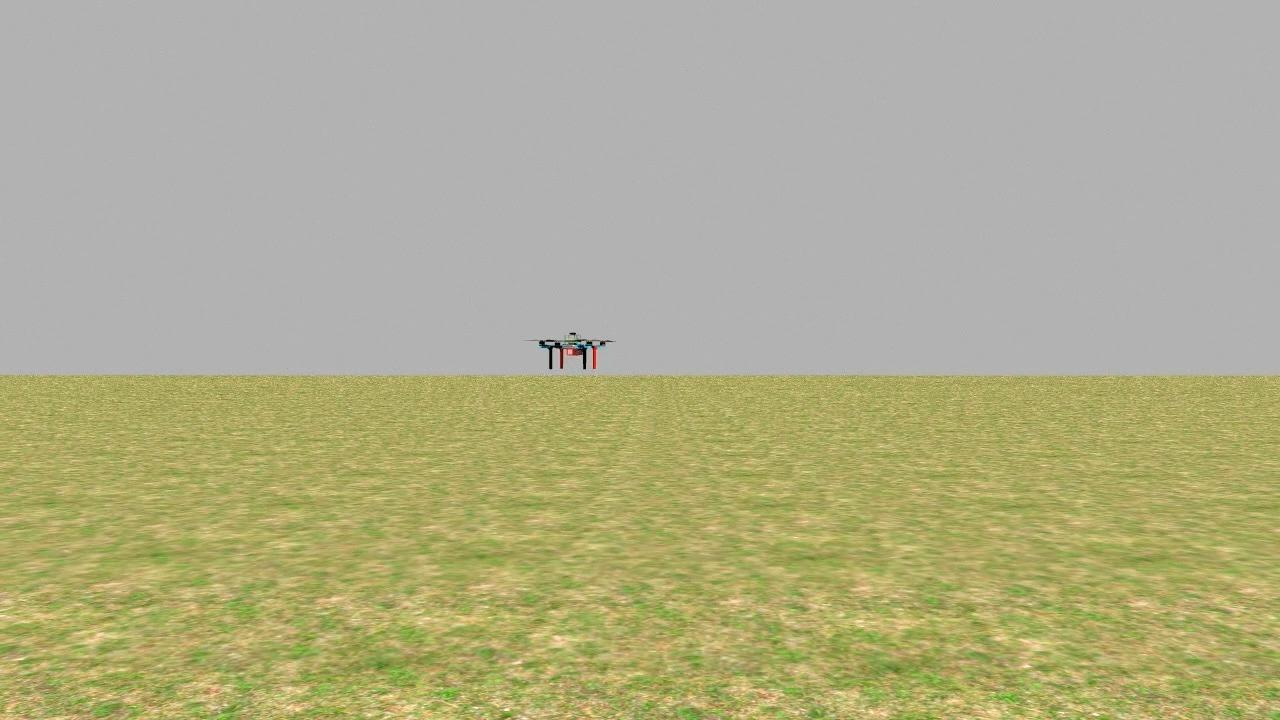UAV: (530, 314, 616, 382)
